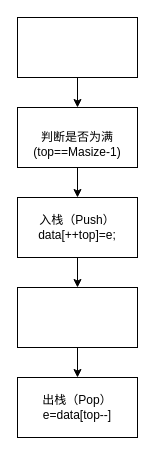
This 155x455 diagram has some shape labels left out. The centre of each missing label's shape, as x and y in pixels:
"初始化栈（让栈为空） top=-1表示空" belongs at (x=77, y=47).
"判断是否为空 (top==-1)" belongs at (x=77, y=317).
